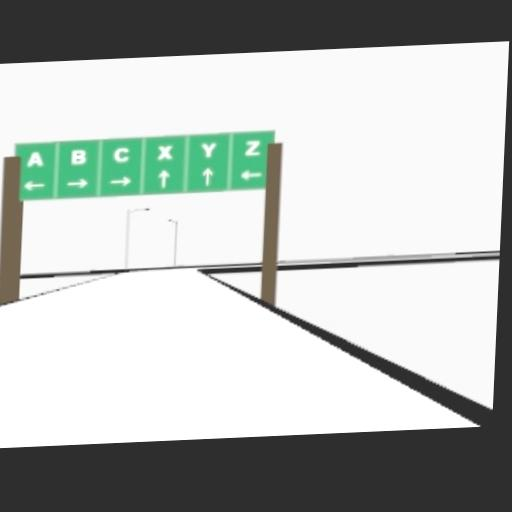A: (25, 149, 43, 165)
B: (69, 147, 85, 163)
C: (112, 145, 130, 161)
Left: (240, 167, 262, 180), (23, 179, 47, 190)
Right: (65, 177, 89, 188), (110, 175, 130, 186)
Straight: (157, 168, 170, 187), (201, 166, 212, 185)
X: (157, 144, 173, 159)
Y: (201, 141, 217, 156)
Z: (243, 139, 261, 154)
